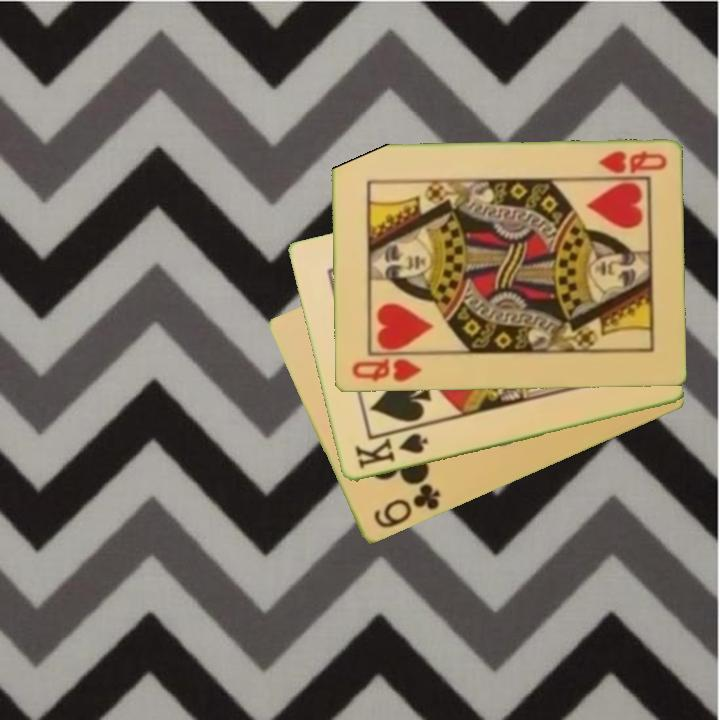6c: (370, 480, 443, 532)
Ks: (351, 430, 431, 473)
Qh: (348, 355, 424, 386), (595, 148, 670, 177)
